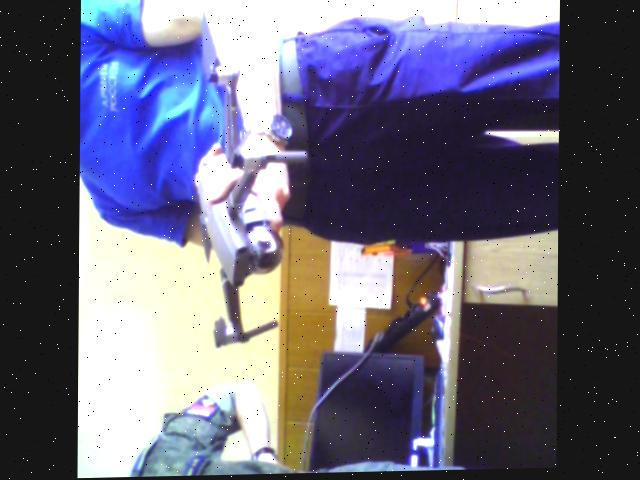drone: (174, 41, 301, 376)
